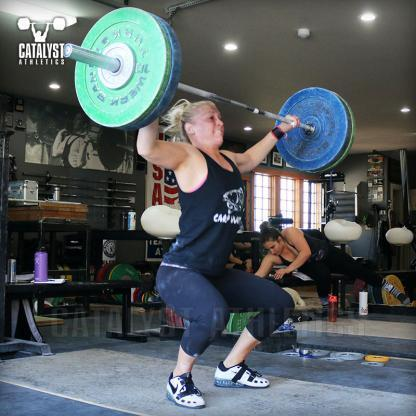barbell: (62, 5, 356, 176)
